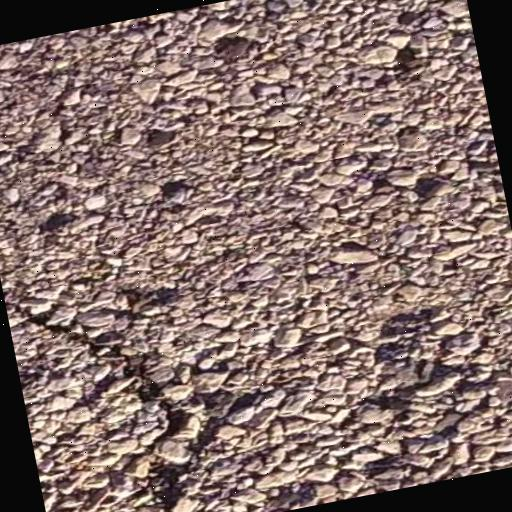spalling: (5, 289, 202, 512)
